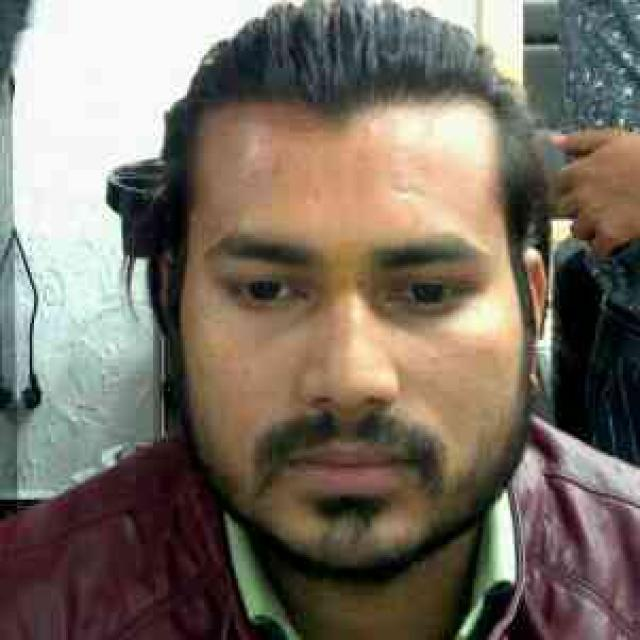puffy_eyes: (374, 297, 437, 333)
